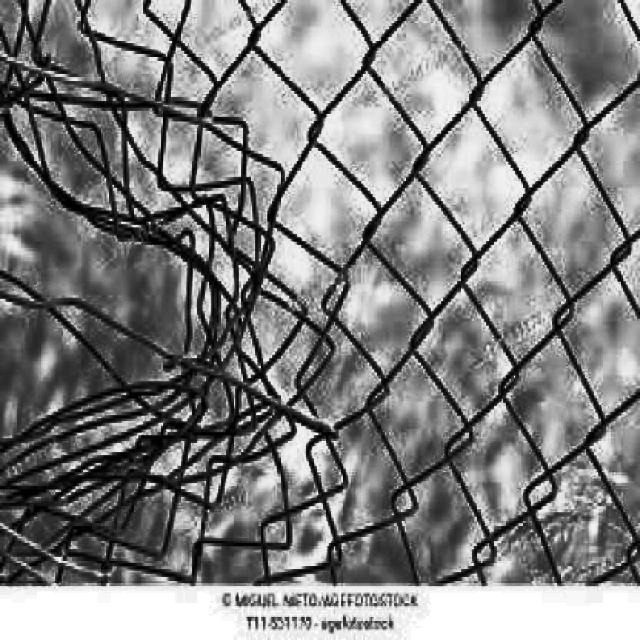anomaly-fence: (5, 0, 358, 586)
